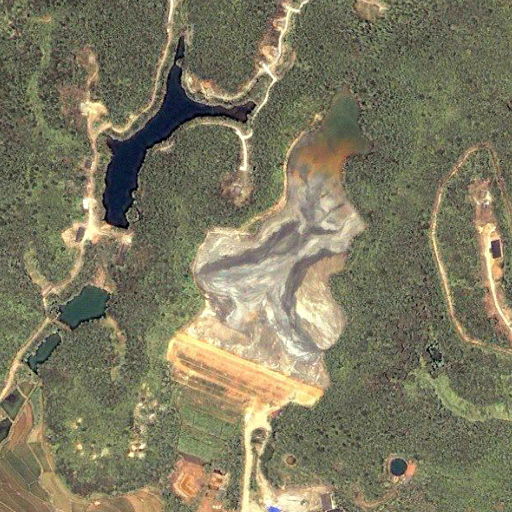tp: (174, 93, 367, 414)
